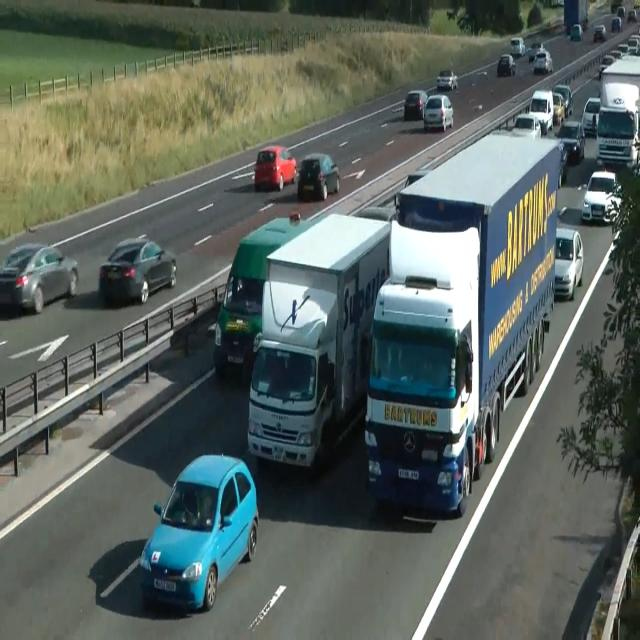bus: (139, 452, 259, 612), (0, 242, 79, 314), (98, 234, 176, 304), (554, 227, 584, 300), (581, 170, 622, 223), (297, 152, 340, 201), (253, 145, 297, 192), (2, 242, 46, 274), (555, 121, 585, 163), (422, 94, 453, 132), (581, 97, 601, 136), (511, 113, 541, 139), (404, 90, 428, 121), (553, 84, 573, 118), (556, 140, 568, 186), (436, 69, 458, 91), (533, 50, 553, 74), (598, 54, 616, 79), (496, 54, 516, 76), (552, 92, 564, 126), (527, 42, 544, 62), (510, 37, 526, 56), (570, 23, 583, 41), (594, 24, 606, 42), (611, 16, 621, 31), (626, 9, 636, 22), (617, 5, 625, 18)
car: (364, 270, 476, 518)
jeep: (212, 211, 318, 383), (529, 89, 553, 134)
minibus: (364, 128, 562, 517), (246, 212, 392, 472), (596, 82, 640, 172)
